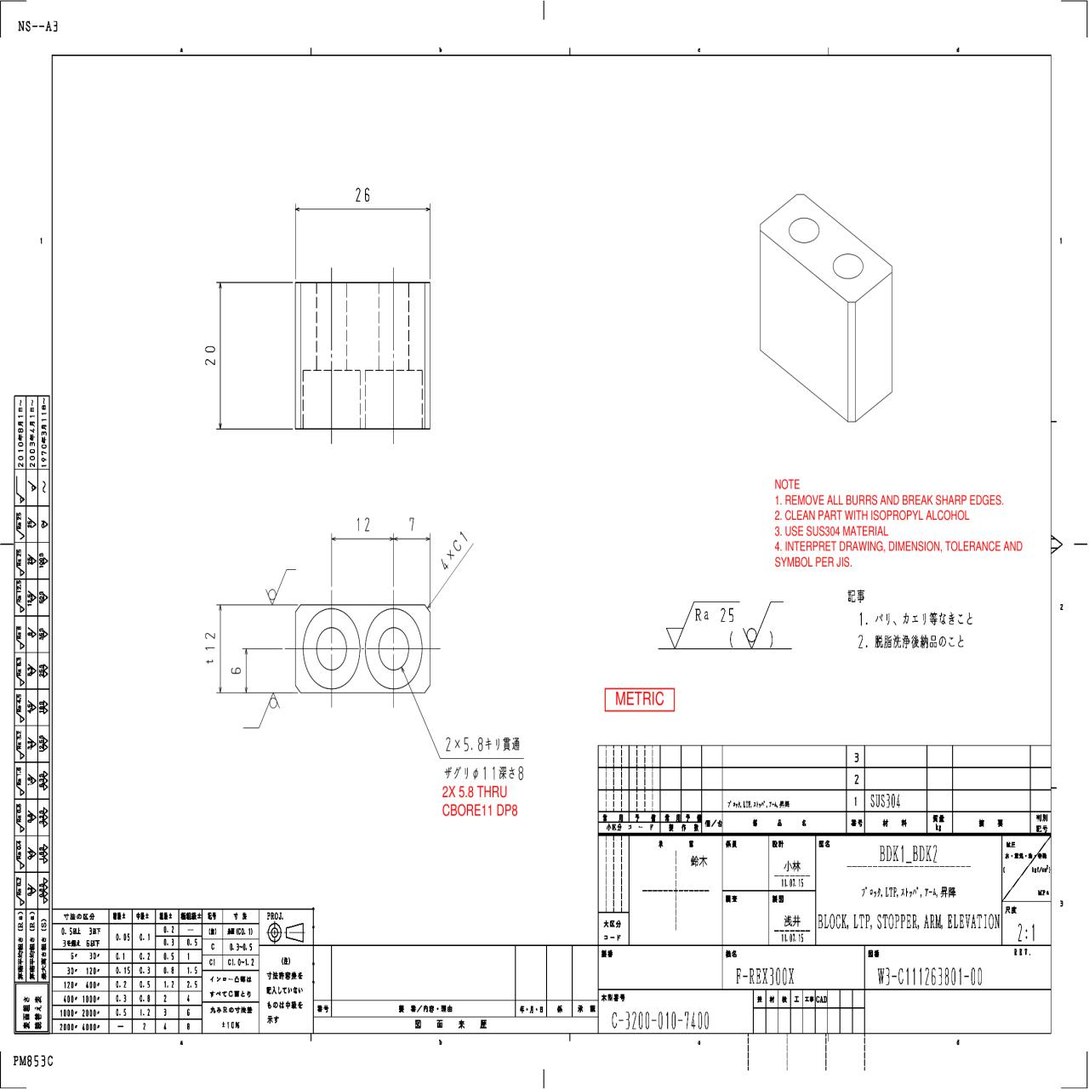basic_dimension: (355, 187, 370, 203), (205, 346, 215, 366), (356, 516, 369, 531), (231, 666, 241, 674), (409, 517, 414, 531)
dimension_chamfer_symbol: (451, 530, 468, 553)
dimension_diameter_symbol: (472, 766, 497, 782)
dimension_thickness_symbol: (204, 631, 216, 667)
surface_finish_symbol: (243, 692, 280, 729), (265, 569, 296, 606)
